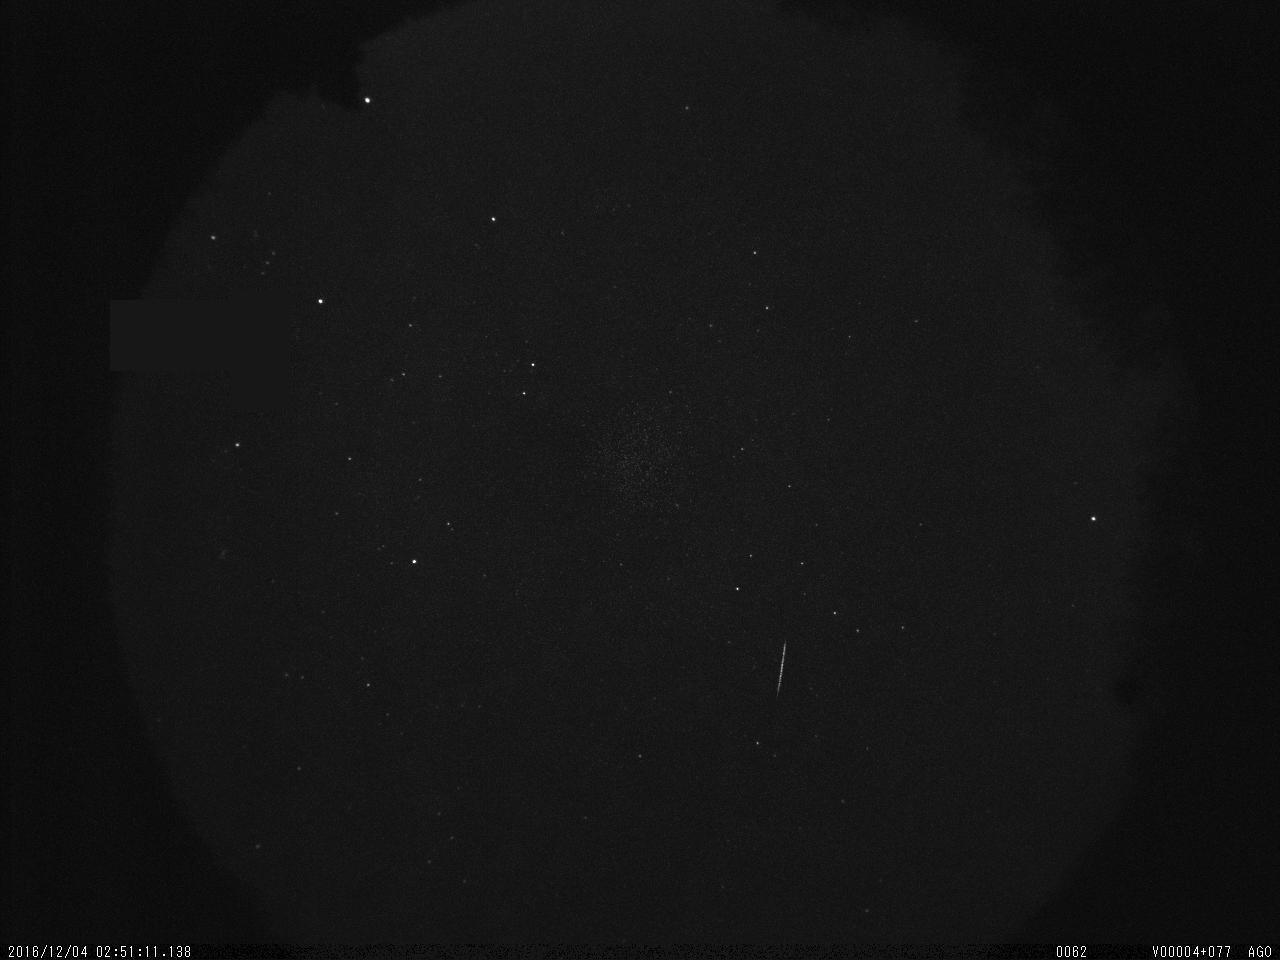meteor: (776, 632, 793, 709)
